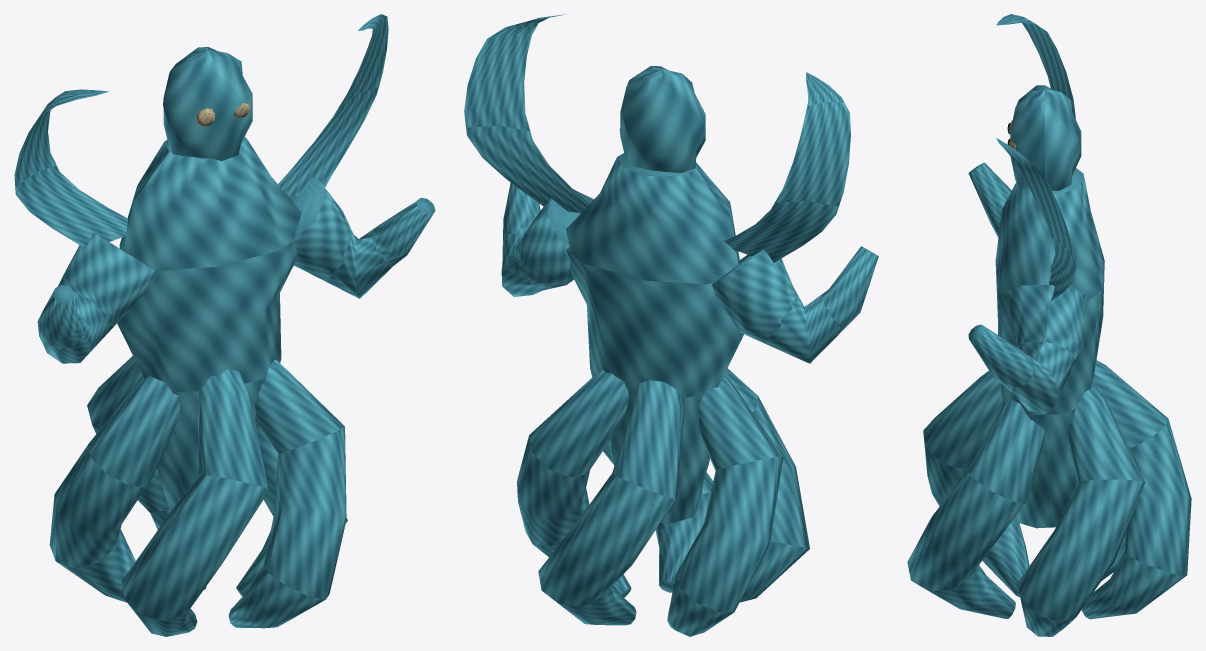
The model's file is special-water-elemental-mobile.glb.
3 views of the same model, side by side, from view 1: azimuth 30°, elevation 25°; view 2: azimuth 150°, elevation 25°; view 3: azimuth 270°, elevation 25° (orthographic). The views are drawn at different scales.
Visible parts, largest first — view 1: water; view 2: water; view 3: water.
Part boxes in pixels (bbox=[...]): water: bbox=[14, 14, 435, 636]; water: bbox=[464, 14, 878, 636]; water: bbox=[907, 14, 1191, 636].
Bounding box in the file's own units: 1.01 × 1.45 × 0.7045.
3 materials, 3 textured.
